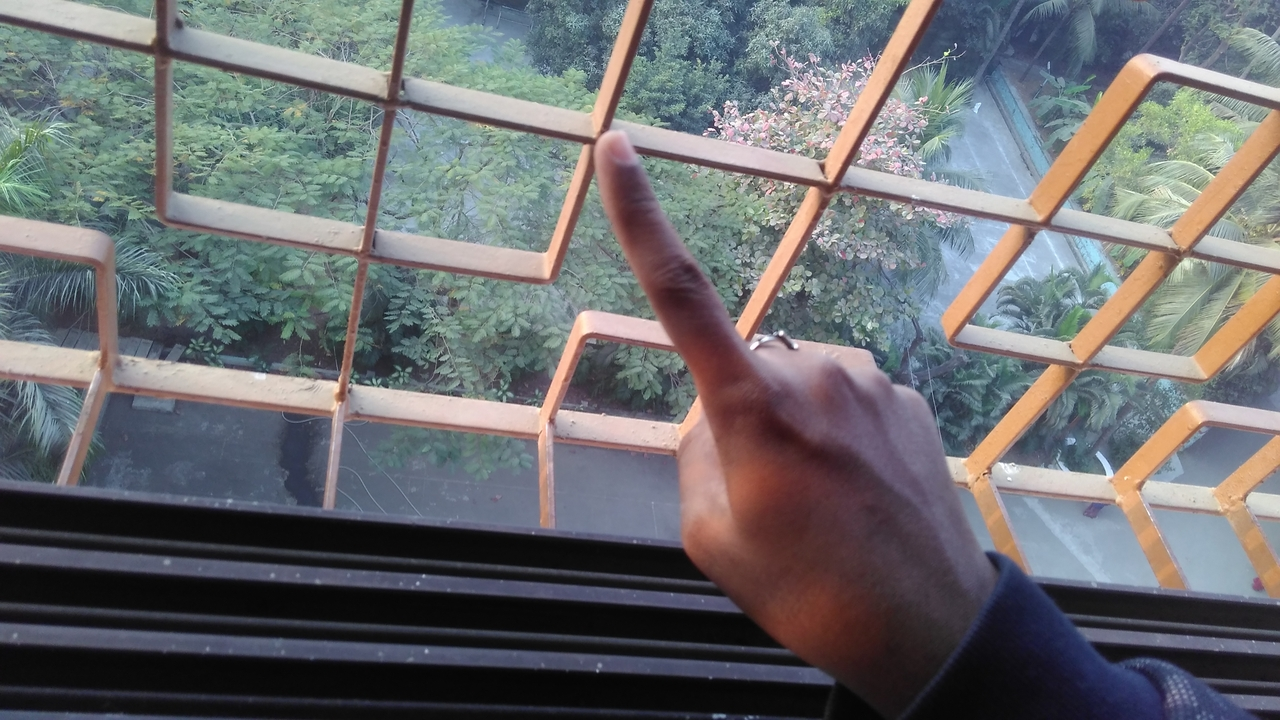fingertip: (588, 118, 646, 182)
